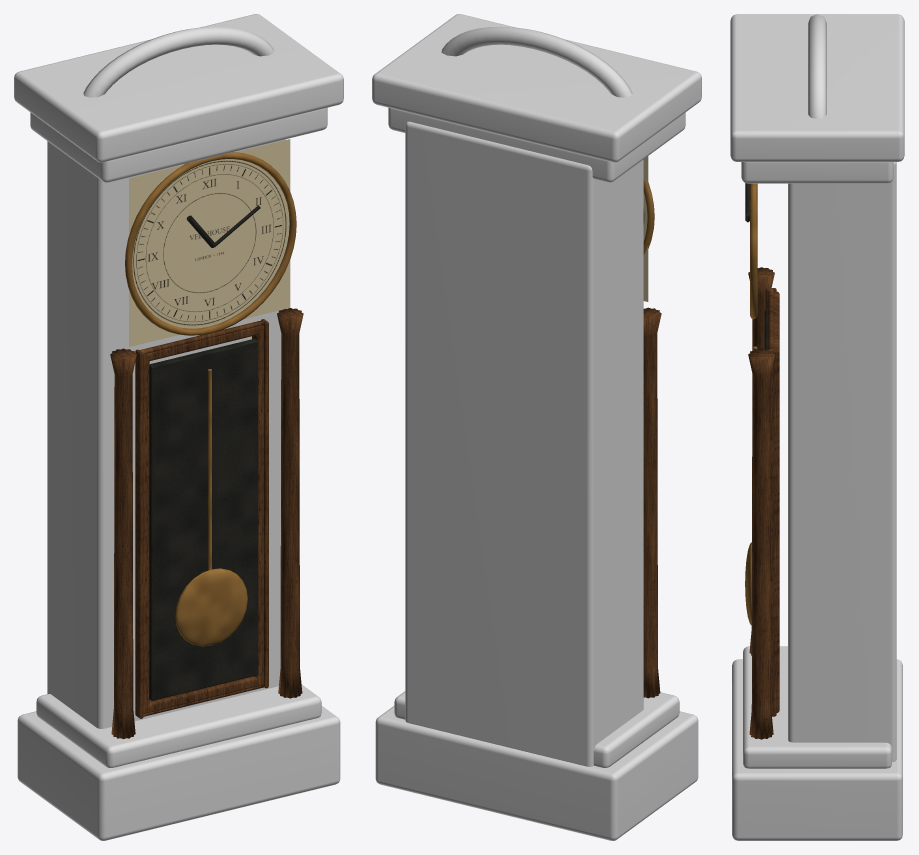
File: GrandfatherClock.fbx
3 views of the same model, side by side, from view 1: azimuth 30°, elevation 25°; view 2: azimuth 150°, elevation 25°; view 3: azimuth 270°, elevation 25° (orthographic).
Visible parts, largest first — view 1: GrandfatherClock_Walnut, GrandfatherClock_Iron, GrandfatherClock_SmokedOak, GrandfatherClock_Decals, GrandfatherClock_Brass; view 2: GrandfatherClock_Walnut, GrandfatherClock_SmokedOak, GrandfatherClock_Decals; view 3: GrandfatherClock_Walnut, GrandfatherClock_SmokedOak, GrandfatherClock_Brass, GrandfatherClock_Iron.
Part boxes in pixels (<box>): GrandfatherClock_Walnut: <box>14,14,343,840</box>; GrandfatherClock_Iron: <box>149,205,260,700</box>; GrandfatherClock_SmokedOak: <box>110,308,303,739</box>; GrandfatherClock_Decals: <box>129,139,290,346</box>; GrandfatherClock_Brass: <box>125,152,296,646</box>; GrandfatherClock_Walnut: <box>372,14,701,840</box>; GrandfatherClock_SmokedOak: <box>643,307,661,698</box>; GrandfatherClock_Decals: <box>643,156,648,301</box>; GrandfatherClock_Walnut: <box>730,14,904,840</box>; GrandfatherClock_SmokedOak: <box>748,267,779,739</box>; GrandfatherClock_Brass: <box>745,183,757,625</box>; GrandfatherClock_Iron: <box>745,183,768,349</box>.
Size of the model in its own units: 92 by 267 by 56.
